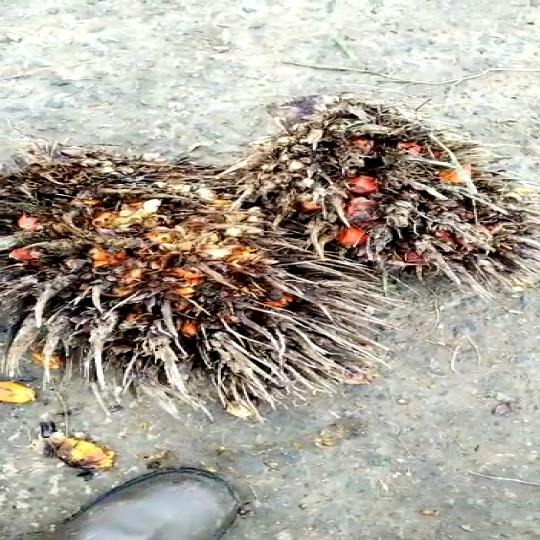terlalu masak: (0, 154, 361, 401), (223, 98, 518, 280)
